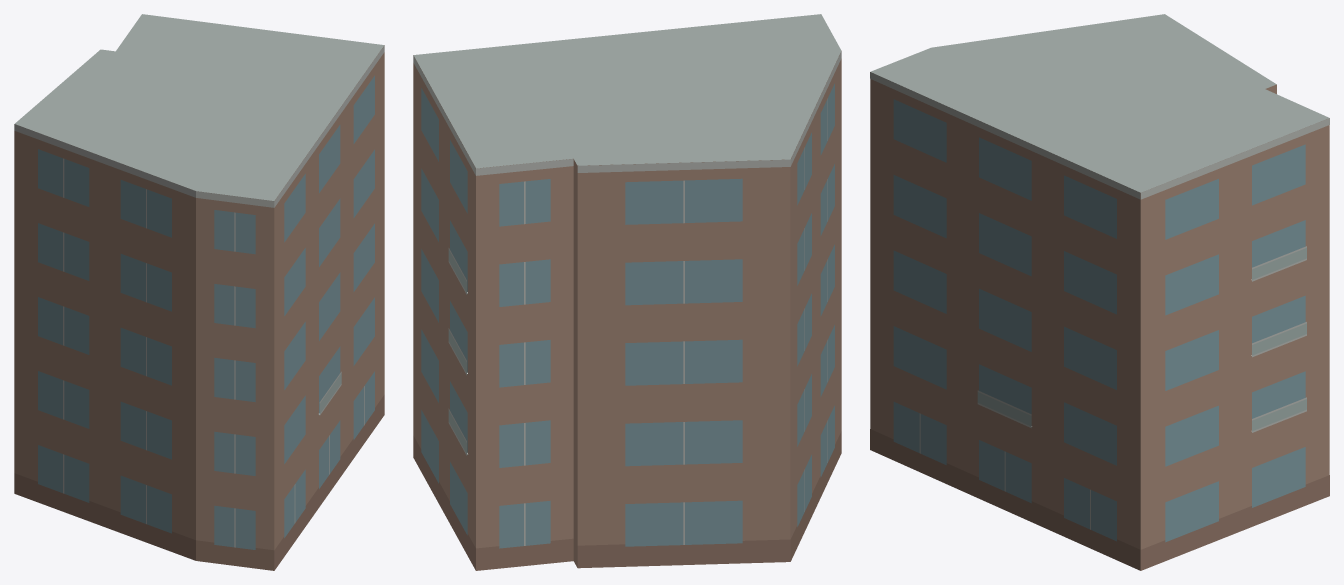
The model's file is survey-upis-32875605.glb.
3 renders of one model, left to right at view 1: azimuth 30°, elevation 25°; view 2: azimuth 150°, elevation 25°; view 3: azimuth 270°, elevation 25°, orthographic. The views are drawn at different scales.
Visible parts, largest first — view 1: survey-upis-32875605.tmp; view 2: survey-upis-32875605.tmp; view 3: survey-upis-32875605.tmp.
Boxes of the visible parts, left/top/right/bottom form: survey-upis-32875605.tmp: left=14, top=14, right=384, bottom=570; survey-upis-32875605.tmp: left=413, top=14, right=841, bottom=570; survey-upis-32875605.tmp: left=870, top=14, right=1329, bottom=570.
Size of the model in its own units: 13.5 by 13.3 by 14.66.
